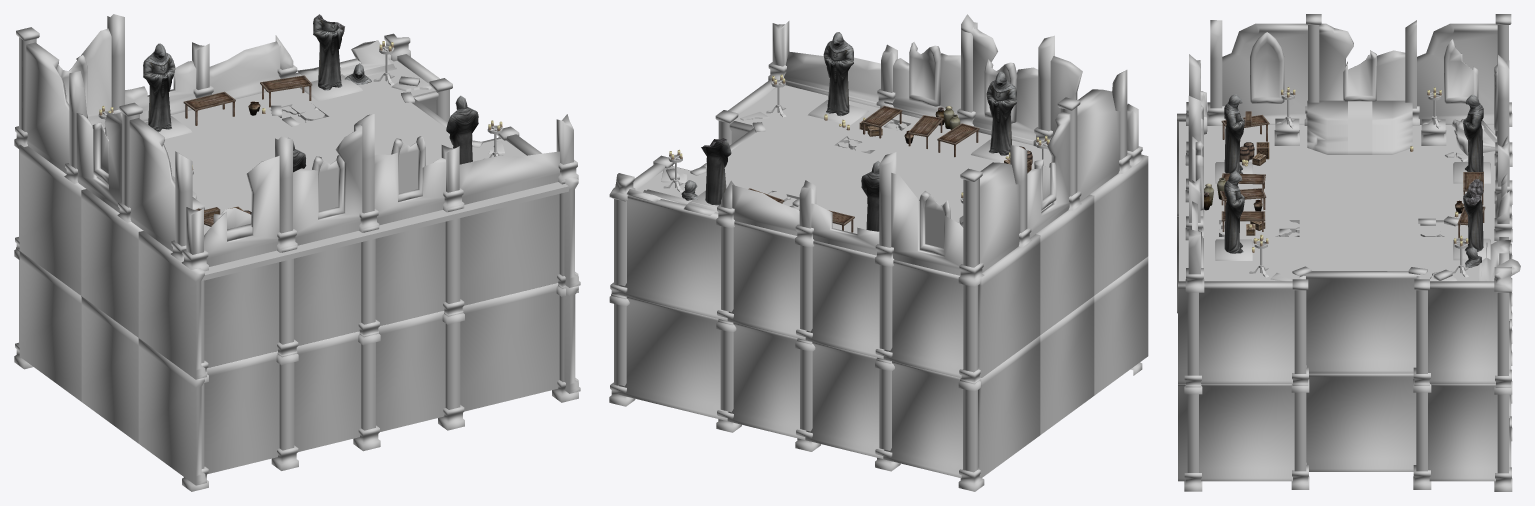
The model's file is Cell1L_R.fbx.
3 renders of one model, left to right at view 1: azimuth 30°, elevation 25°; view 2: azimuth 150°, elevation 25°; view 3: azimuth 270°, elevation 25°, orthographic. The views are drawn at different scales.
Visible parts, largest first — view 1: Cell1L_R; view 2: Cell1L_R; view 3: Cell1L_R.
Part boxes in pixels (box(x1,y1,x2,y2)): Cell1L_R: box(14, 14, 580, 491); Cell1L_R: box(609, 14, 1148, 491); Cell1L_R: box(1177, 14, 1520, 491).
Bounding box in the file's own units: 26.88 × 21.99 × 22.44.
